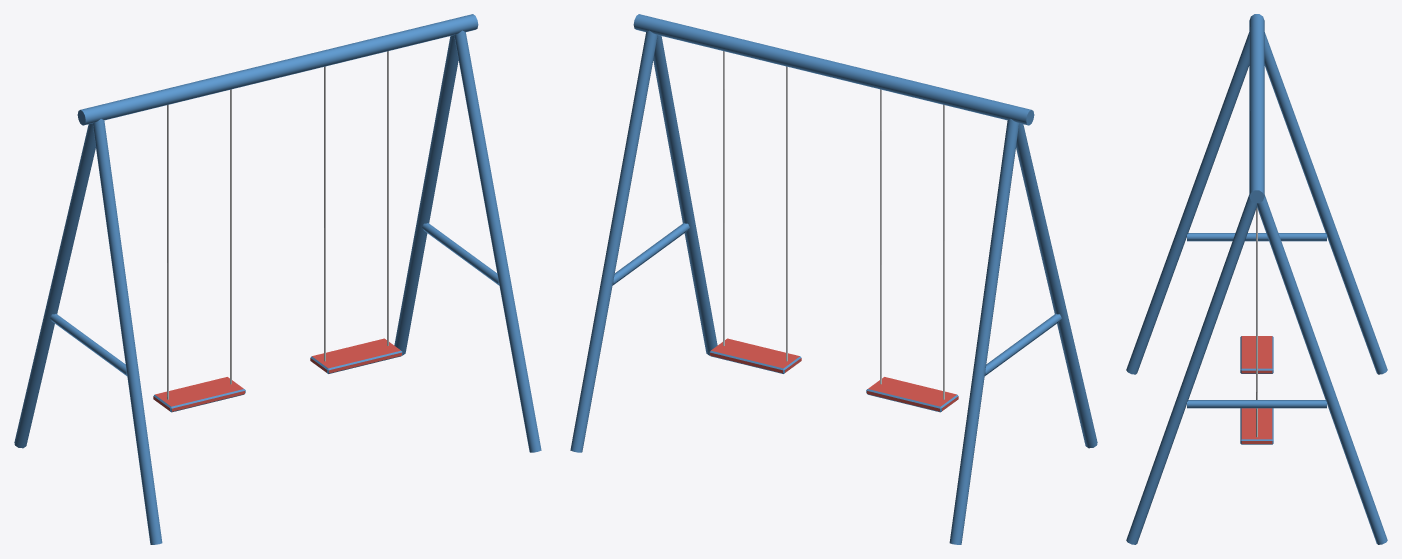
The model's file is playground_swing.glb.
The picture shows the model from 3 angles, left to right: view 1: azimuth 30°, elevation 25°; view 2: azimuth 150°, elevation 25°; view 3: azimuth 270°, elevation 25°; orthographic projection. The views are drawn at different scales.
Parts seen in each view (by area): view 1: playground_swing; view 2: playground_swing; view 3: playground_swing.
Part boxes in pixels (x1,y1,x2,y2): playground_swing: (14, 14, 541, 544); playground_swing: (570, 14, 1097, 544); playground_swing: (1126, 14, 1387, 544).
Bounding box in the file's own units: 2.5 × 2.35 × 1.57.
